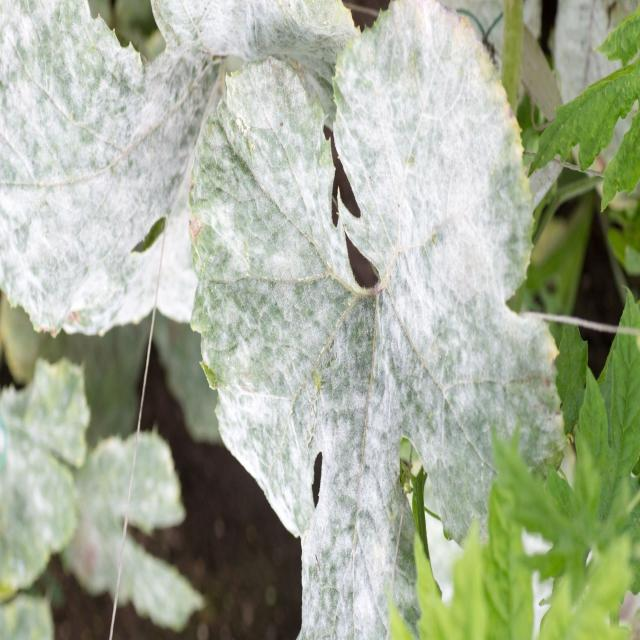Powdery Mildew: (0, 23, 567, 637)
